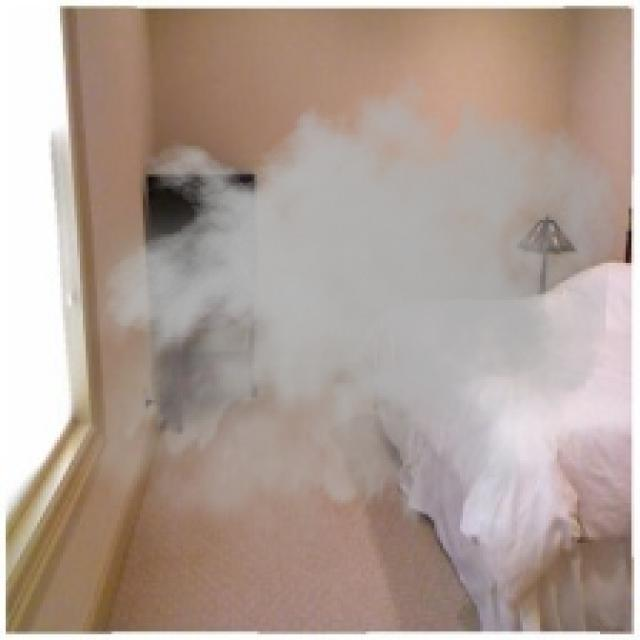Smoke: (51, 57, 620, 589)
